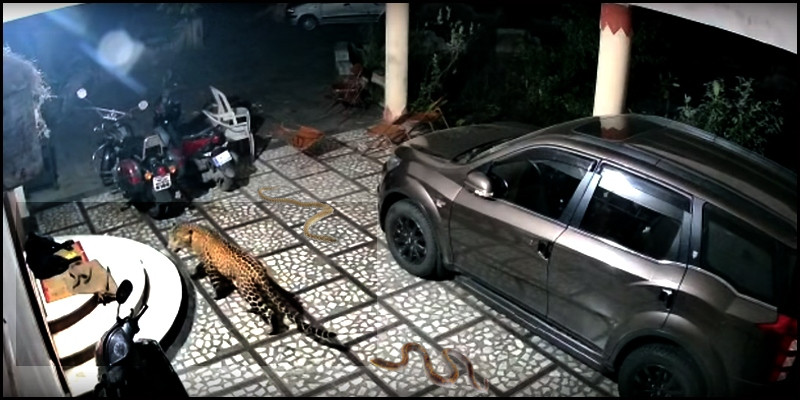snake: (368, 340, 481, 391), (255, 182, 342, 244)
